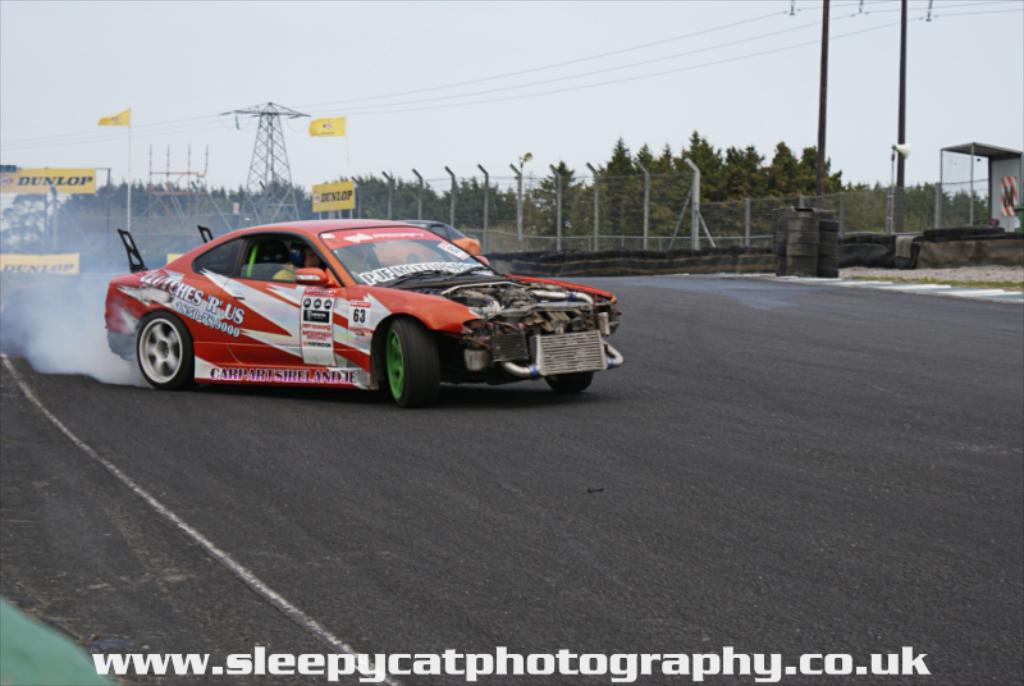Car: (104, 217, 619, 408)
